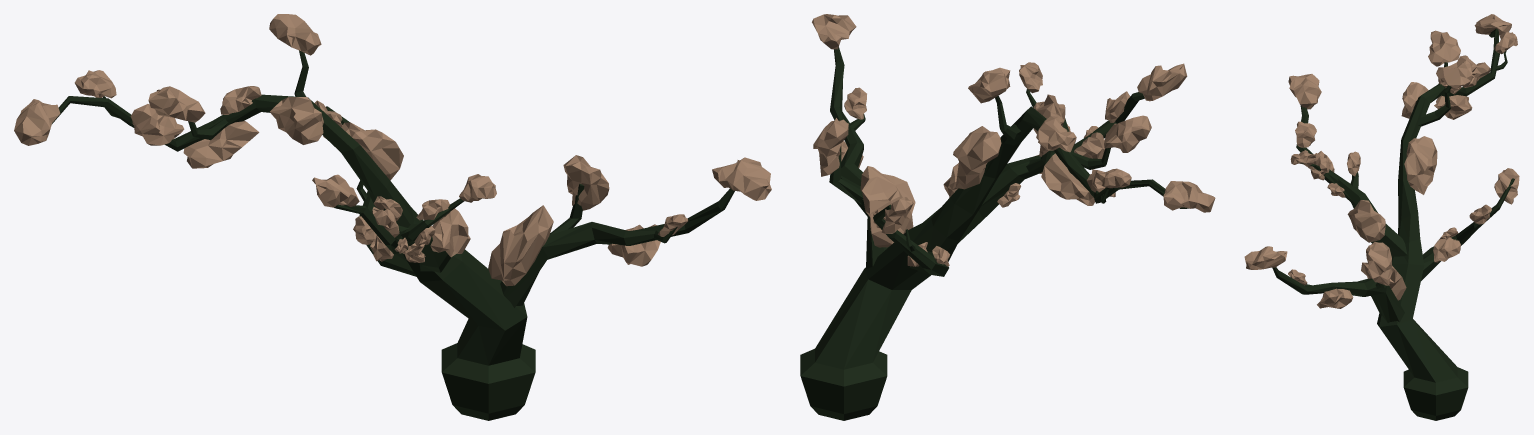
The model's file is peach_tree1.FBX.
The picture shows the model from 3 angles, left to right: view 1: azimuth 30°, elevation 25°; view 2: azimuth 150°, elevation 25°; view 3: azimuth 270°, elevation 25°; orthographic projection. The views are drawn at different scales.
Visible parts, largest first — view 1: peach_tree1; view 2: peach_tree1; view 3: peach_tree1.
Boxes of the visible parts, x1,y1,x2,y2 form: peach_tree1: (14,14,771,420); peach_tree1: (800,14,1215,420); peach_tree1: (1244,14,1519,420).
Size of the model in its own units: 432 by 254 by 298.
